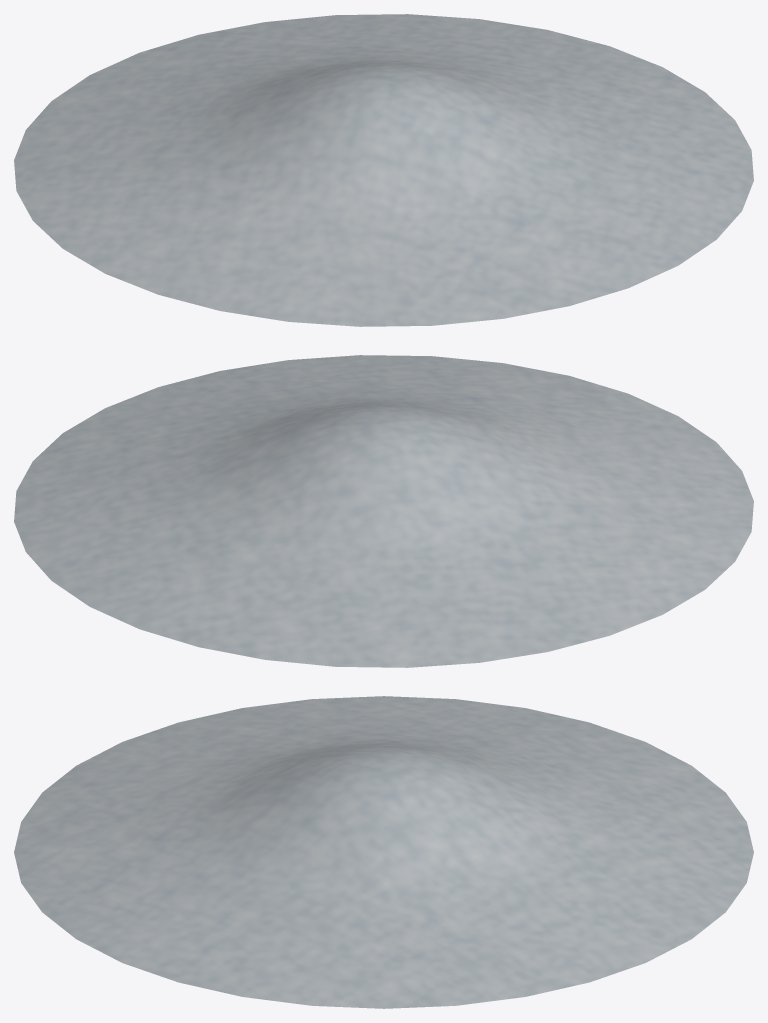
File: sb_obj_outdoor051_SnowPuddleA.fbx
3 views of the same model, one above another, from view 1: azimuth 30°, elevation 25°; view 2: azimuth 150°, elevation 25°; view 3: azimuth 270°, elevation 25° (orthographic).
Parts seen in each view (by area): view 1: sb_obj_outdoor051_SnowPuddleA; view 2: sb_obj_outdoor051_SnowPuddleA; view 3: sb_obj_outdoor051_SnowPuddleA.
Part boxes in pixels (x1,y1,x2,y2): sb_obj_outdoor051_SnowPuddleA: [14, 14, 753, 326]; sb_obj_outdoor051_SnowPuddleA: [14, 355, 753, 667]; sb_obj_outdoor051_SnowPuddleA: [14, 696, 753, 1008].
Bounding box in the file's own units: 1.33 × 0.1717 × 1.33.
Materials: 1 (1 with a texture image).
